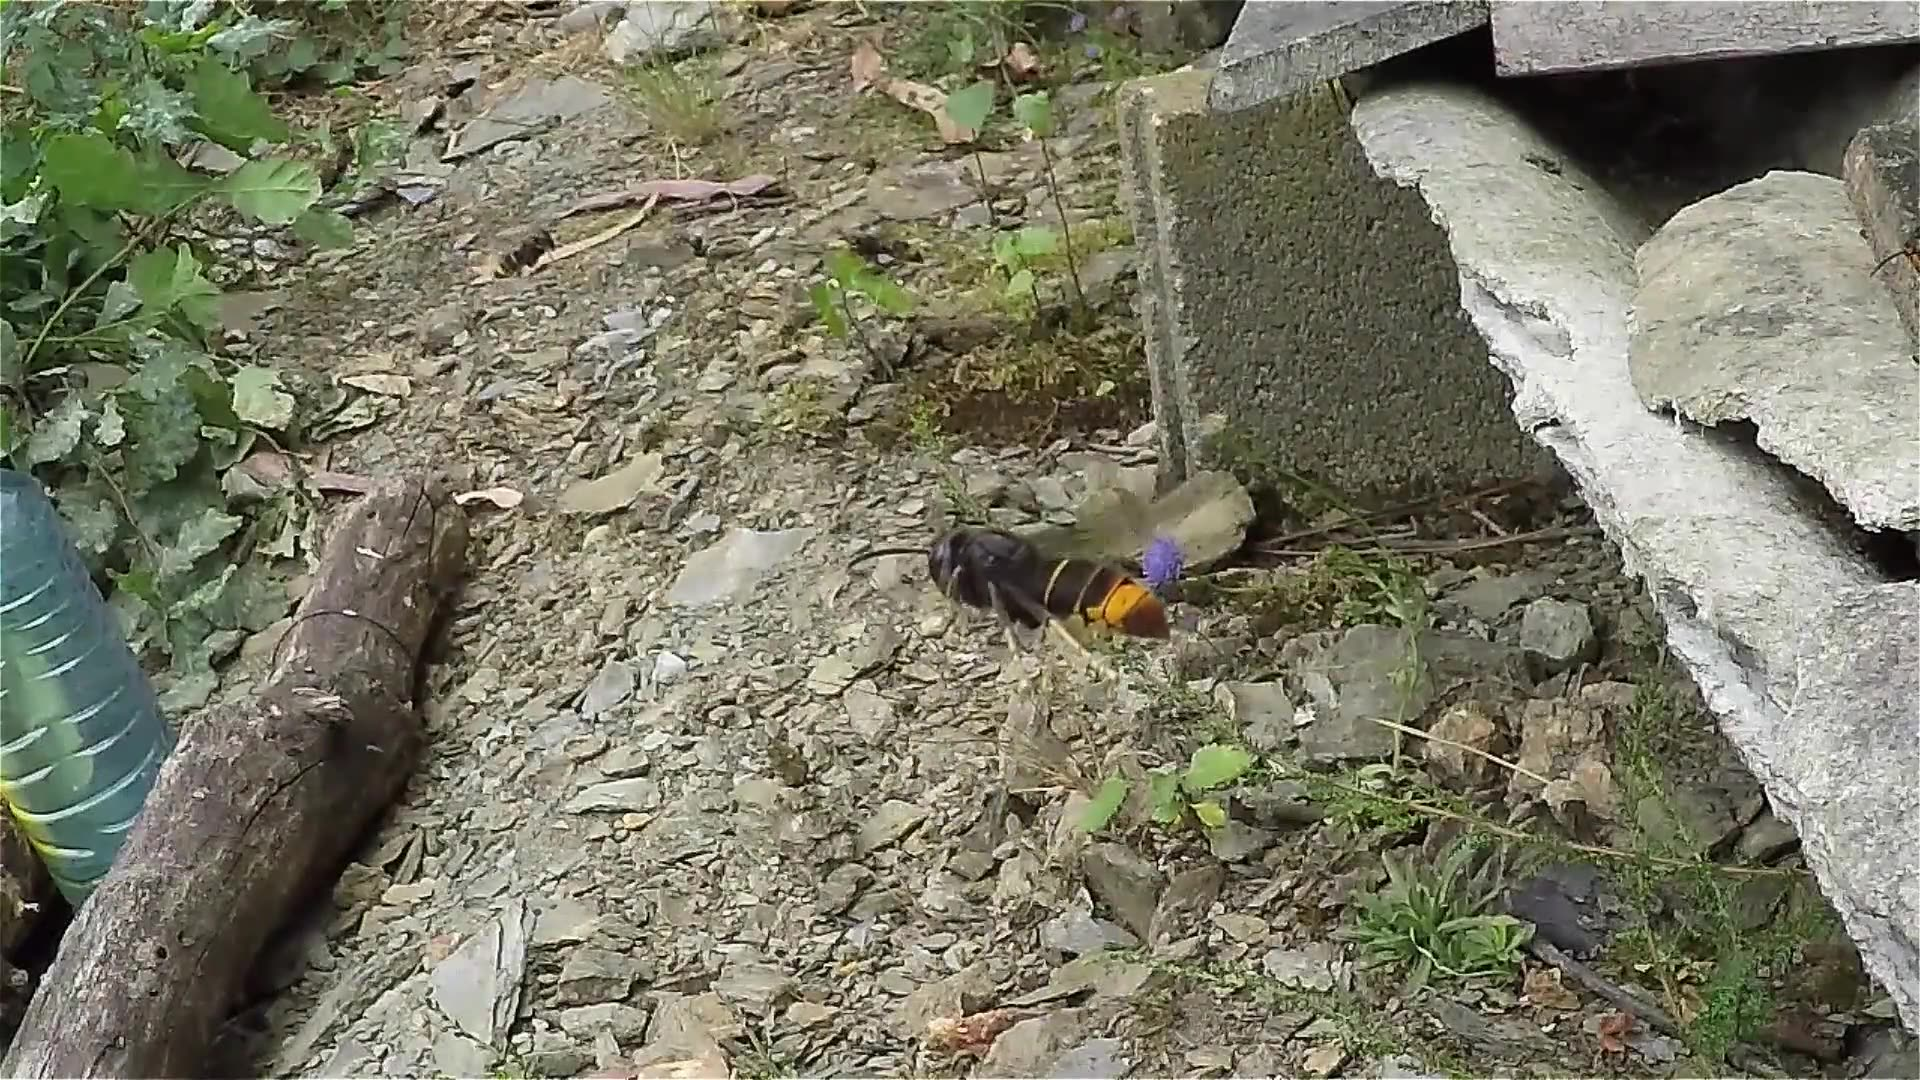hornet: (934, 516, 1189, 662), (488, 225, 558, 282), (847, 231, 926, 270)
